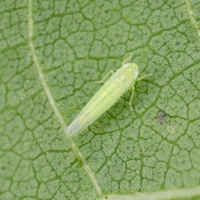insect: (66, 63, 138, 135)
